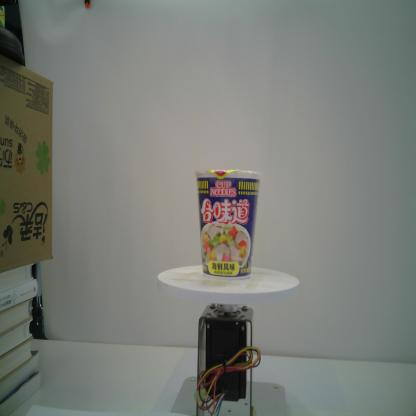Instant Noodles: (193, 166, 264, 283)
